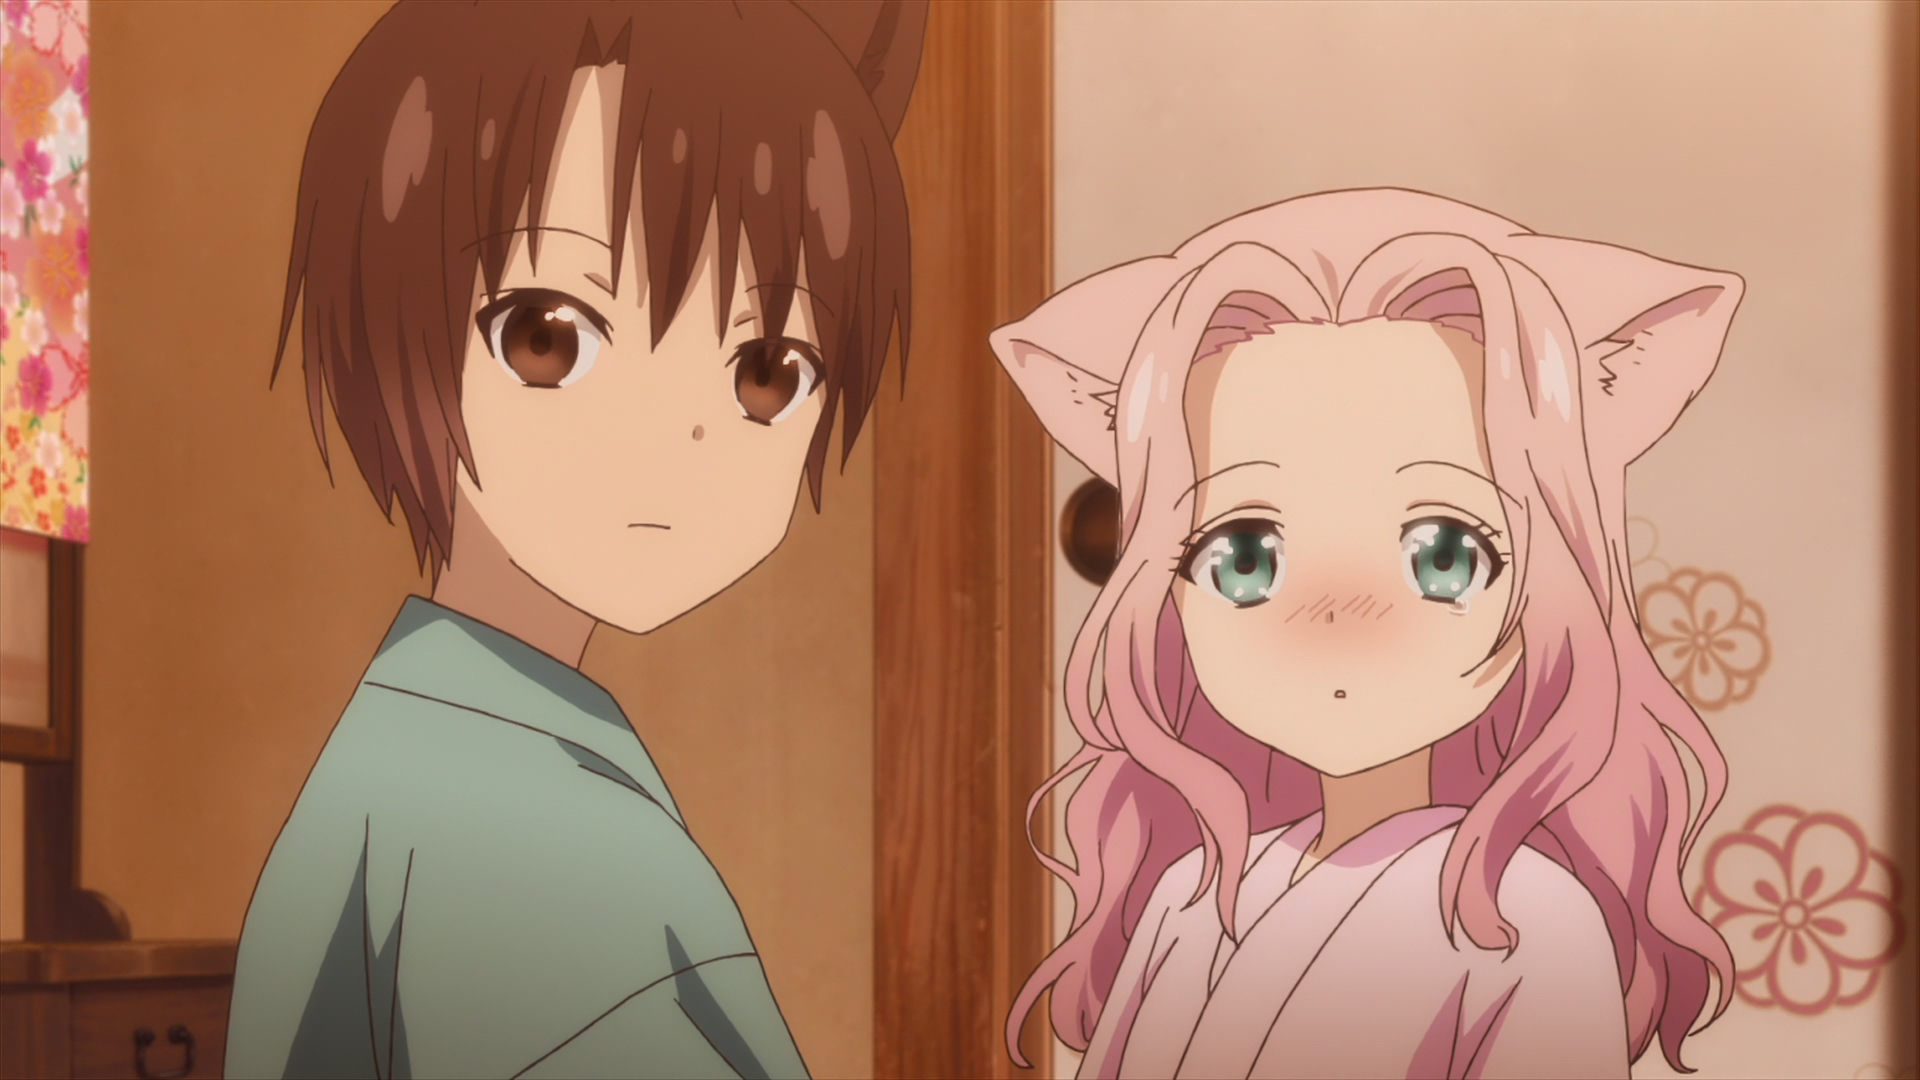枣: (222, 1, 934, 1080)
莲: (990, 189, 1743, 1080)
